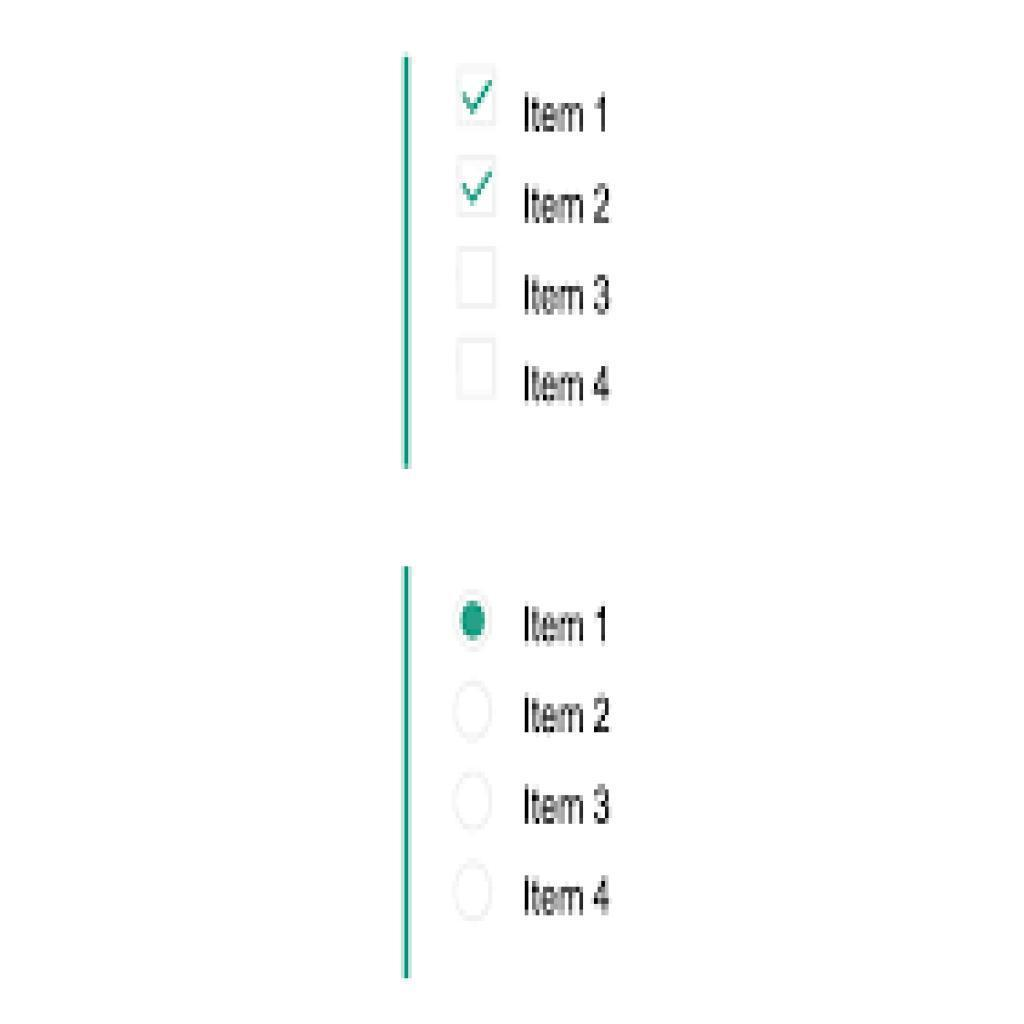checkbox: (455, 67, 499, 126), (455, 249, 499, 307), (456, 158, 497, 218), (458, 339, 498, 400)
label: (521, 267, 616, 324), (520, 182, 620, 235), (519, 687, 613, 743), (517, 776, 616, 829), (519, 357, 616, 410), (524, 869, 619, 920), (520, 601, 609, 650), (521, 93, 611, 138)
radio: (452, 770, 497, 836), (450, 862, 497, 925), (453, 595, 500, 656), (455, 684, 496, 745)
